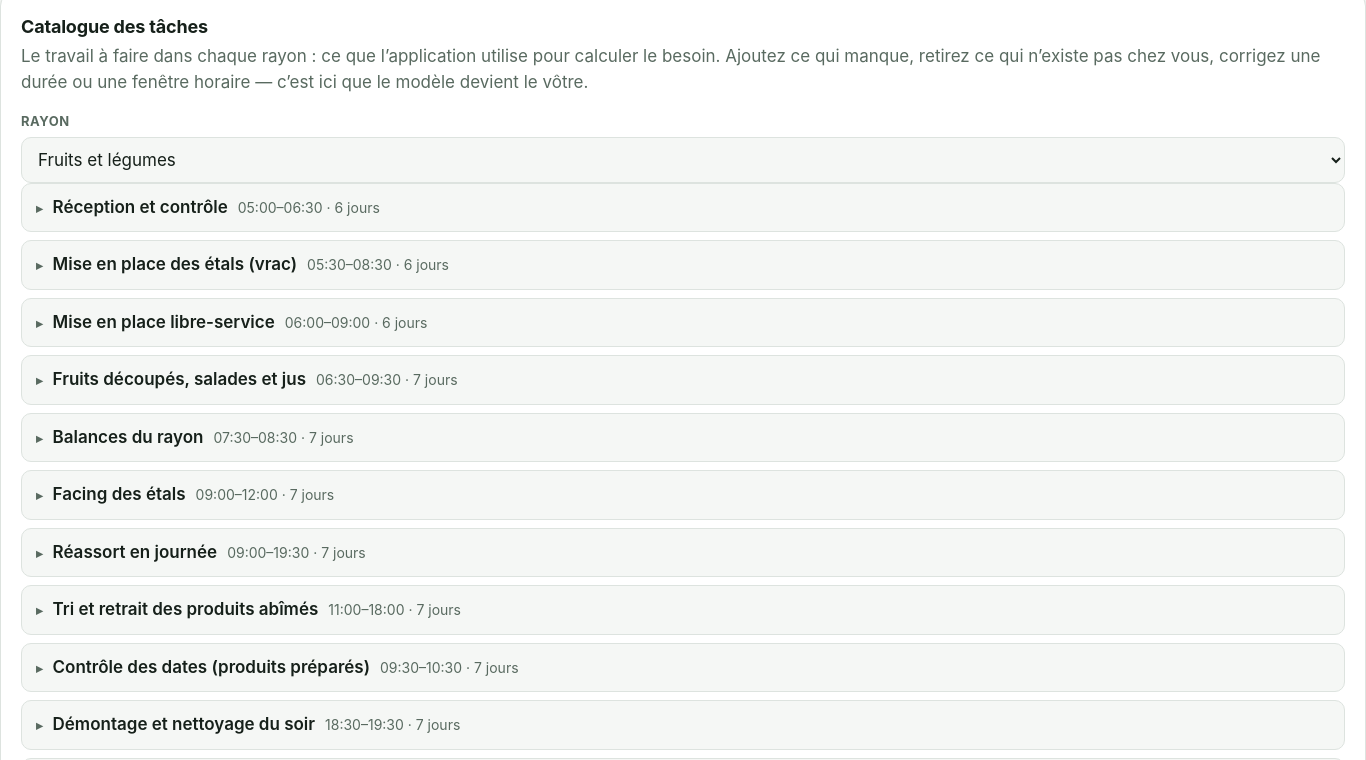
Test: catalogue des tâches › désactive une tâche sans l’effacer
Click the text "Réception et contrôle".
click(140, 207)  # box 52,194 -> 228,220
(page scrolled)
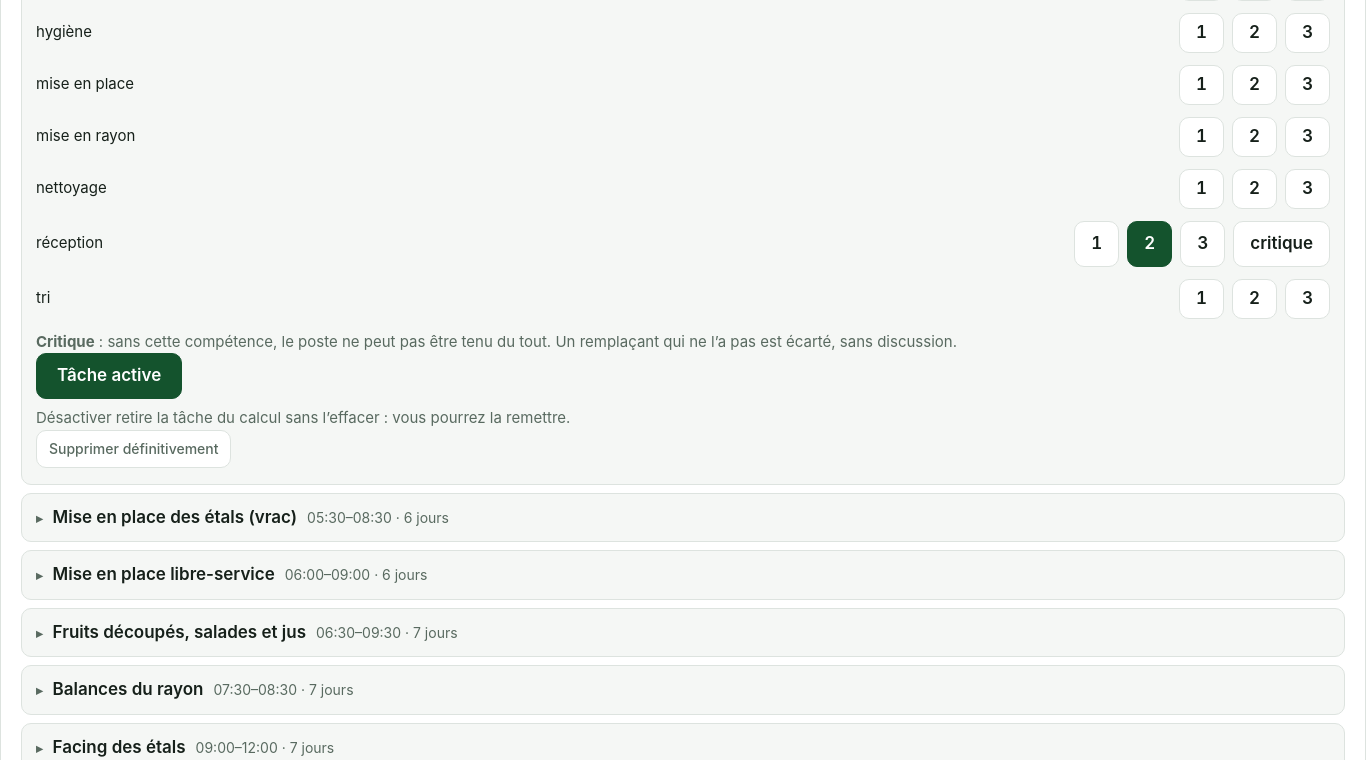
Click the button "Tâche active".
click(109, 376)  # box 36,353 -> 182,399
(page scrolled)
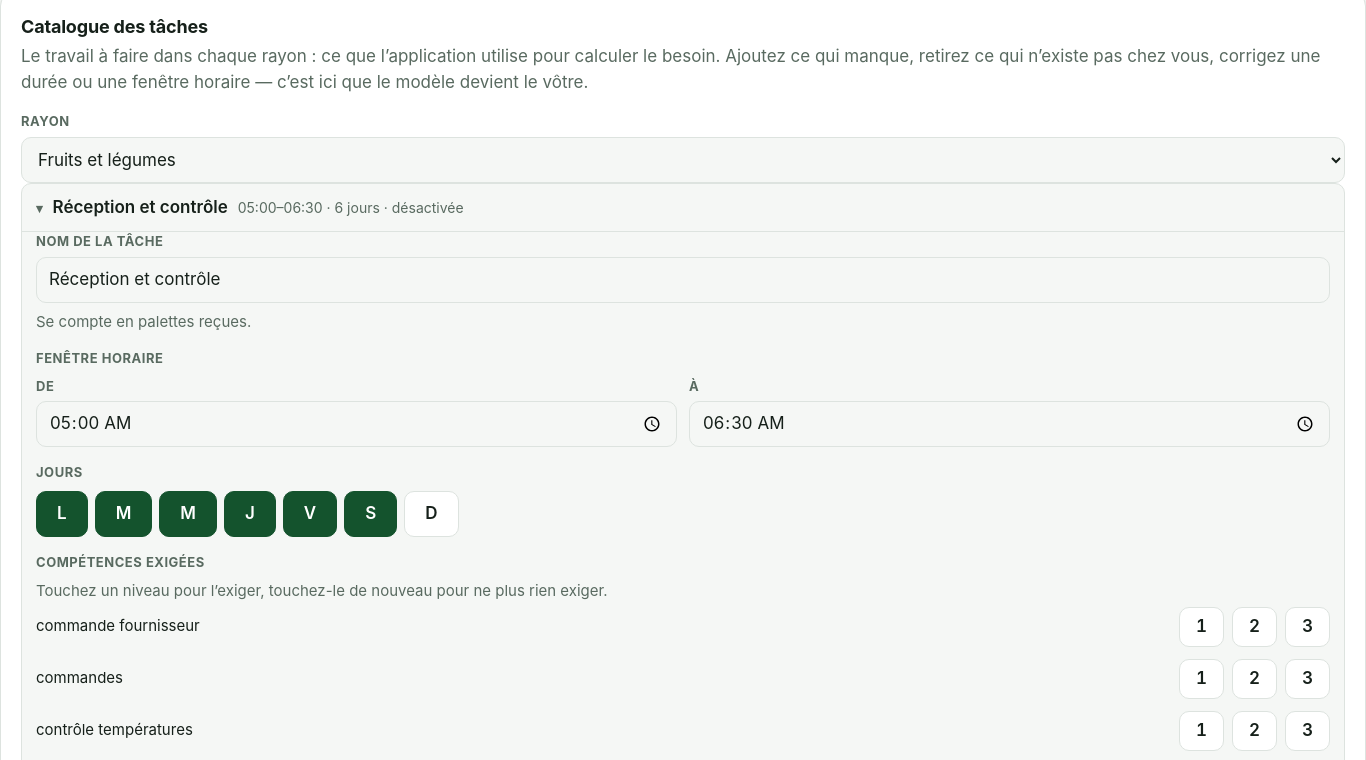
expect the text "05:00–06:30 · 6 jours · désactivée" is shown: met, box 238,196 -> 464,218
